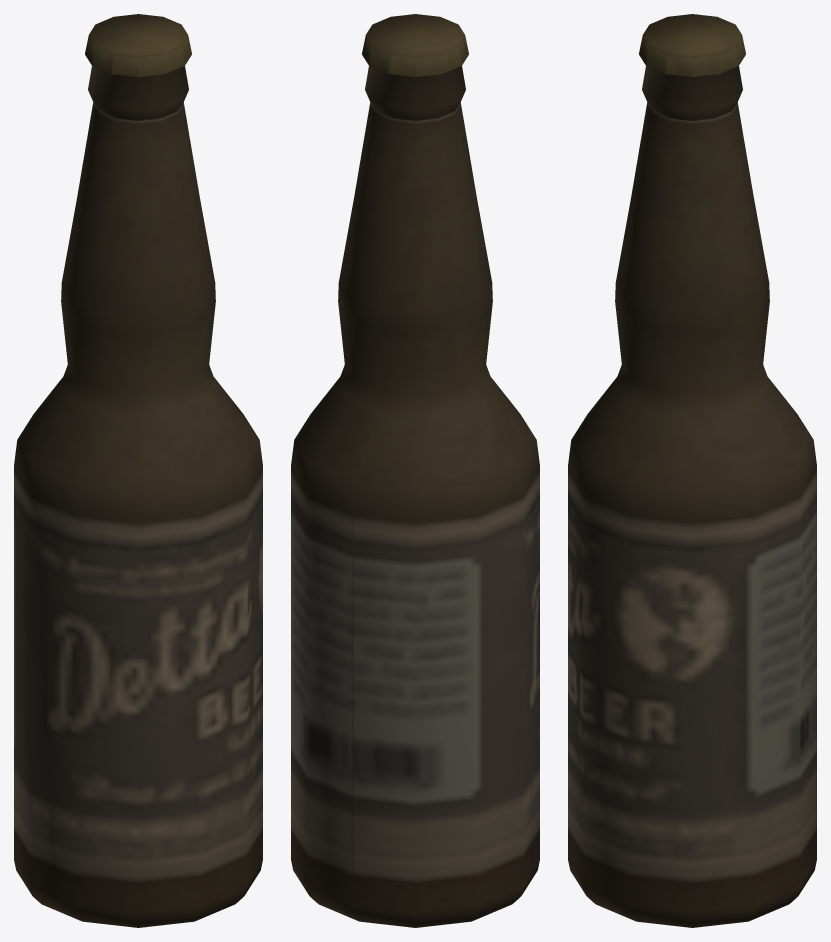
The model's file is glass_bottle_mx_1.dae.
3 renders of one model, left to right at view 1: azimuth 30°, elevation 25°; view 2: azimuth 150°, elevation 25°; view 3: azimuth 270°, elevation 25°, orthographic.
Visible parts, largest first — view 1: glass_bottle_mx_1; view 2: glass_bottle_mx_1; view 3: glass_bottle_mx_1.
Part boxes in pixels (x1,y1,x2,y2): glass_bottle_mx_1: (14, 14, 262, 927); glass_bottle_mx_1: (291, 14, 539, 927); glass_bottle_mx_1: (568, 14, 816, 927).
Size of the model in its own units: 0.097 by 0.097 by 0.3639.
1 material, 1 textured.
